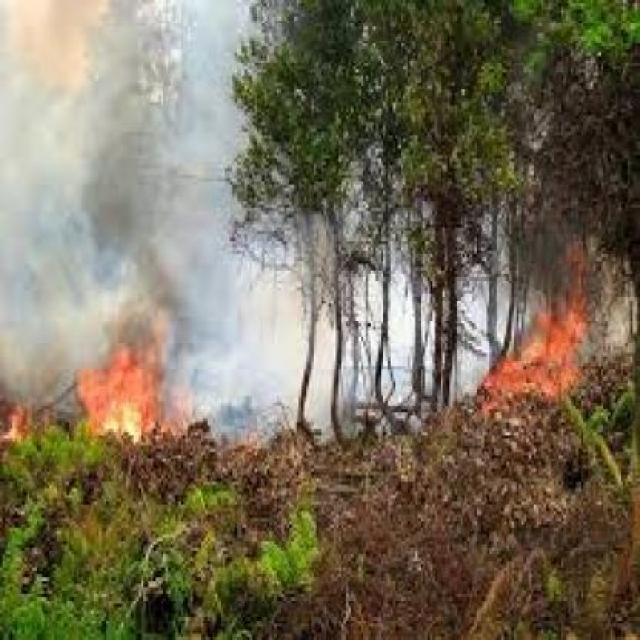Fire: (472, 218, 618, 422), (64, 339, 200, 464)
Smoke: (0, 0, 340, 347)
